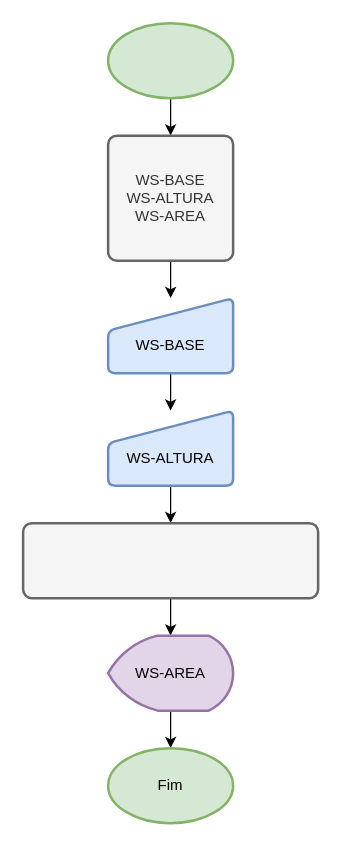
Image size: 340x845. Some labels were removed from this diagram. Each missing label, with the centre of its shape:
Inicio: the point at 170,60
WS-AREA = WS-BASE * WS-ALTURA: the point at 170,560
